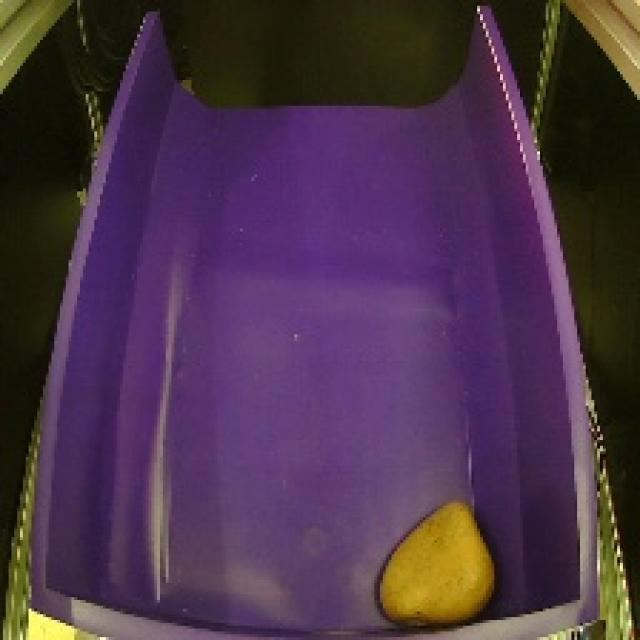cobbles: (365, 483, 506, 628)
